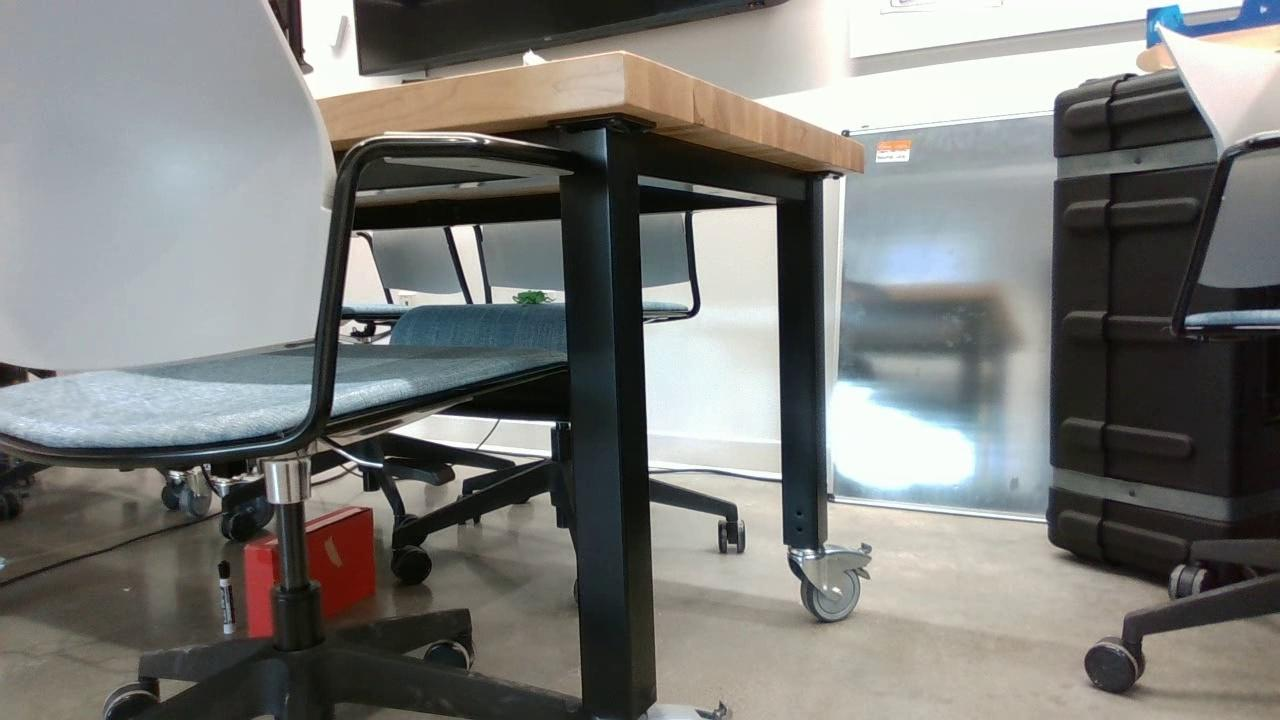grasshopper: (512, 290, 554, 305)
